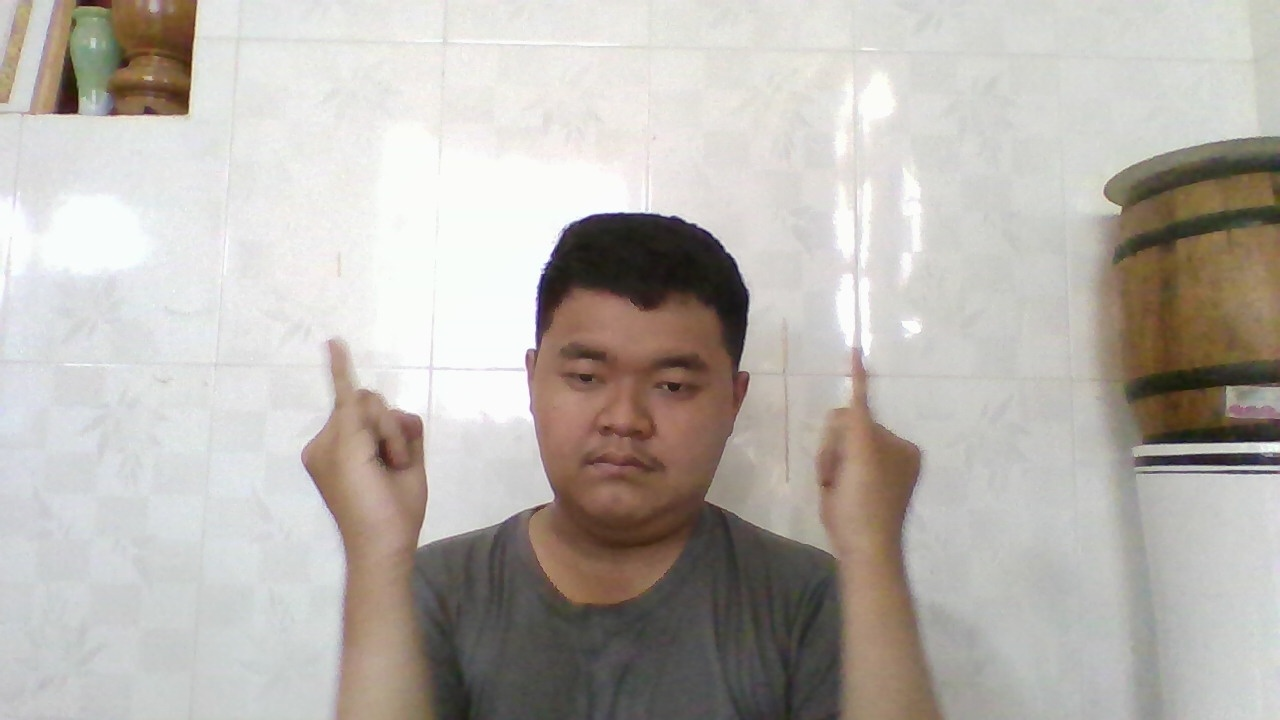I: (300, 330, 428, 571), (806, 341, 926, 556)
